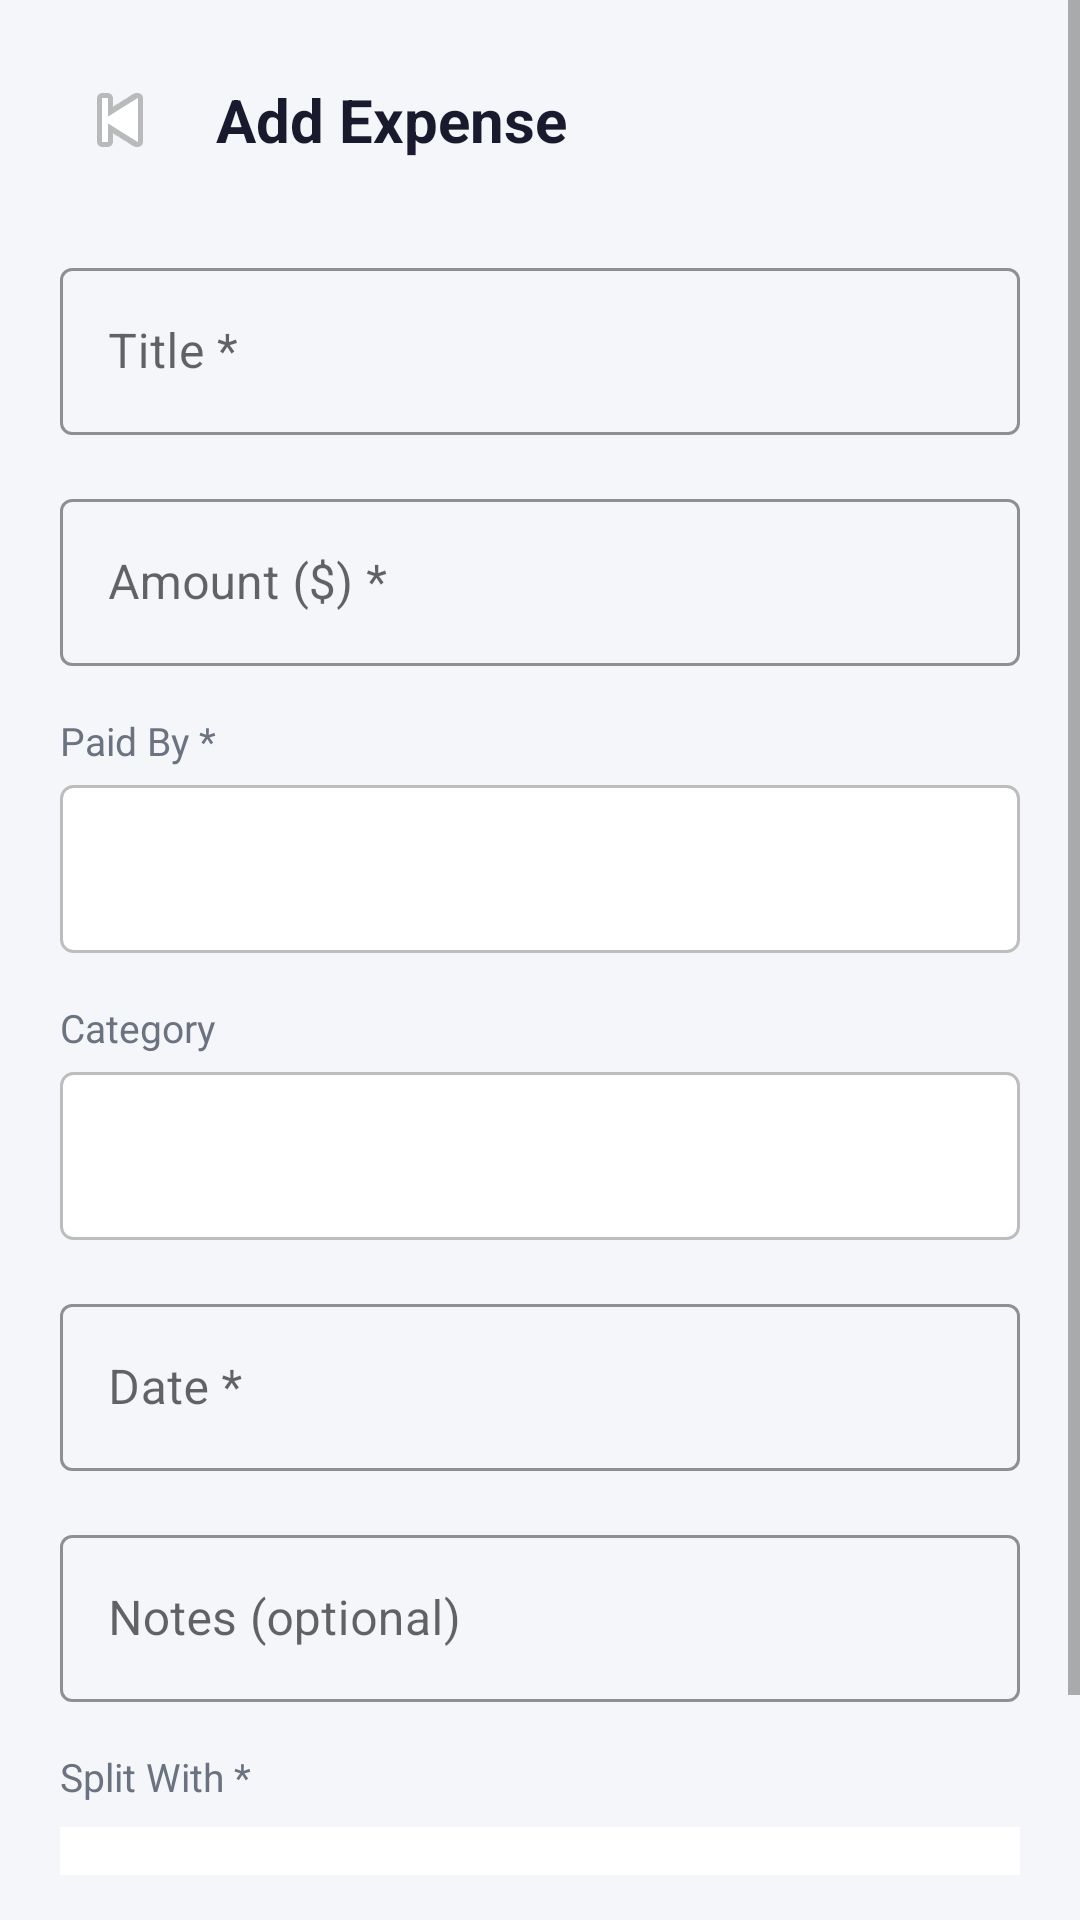

Named icons in this screenshot (1080w x 1920h) and their centers, point (x, y):
Back: point (120, 120)
